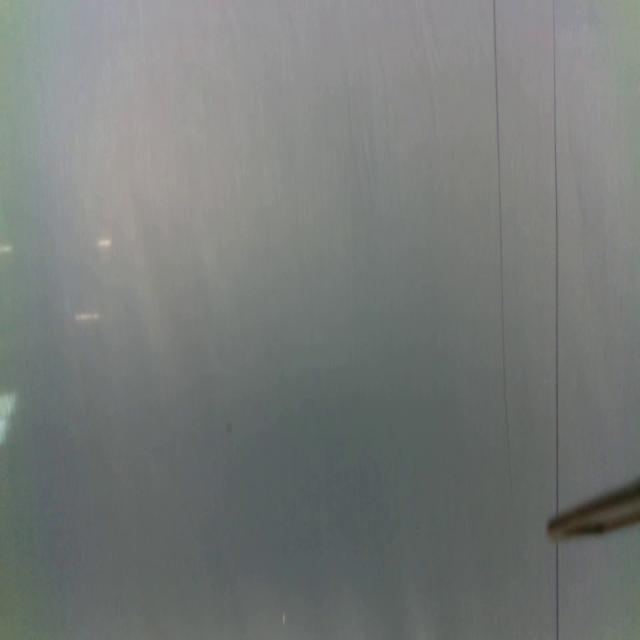crease: (491, 0, 514, 479), (550, 0, 562, 512), (554, 538, 561, 640)
hole: (281, 611, 288, 629)
